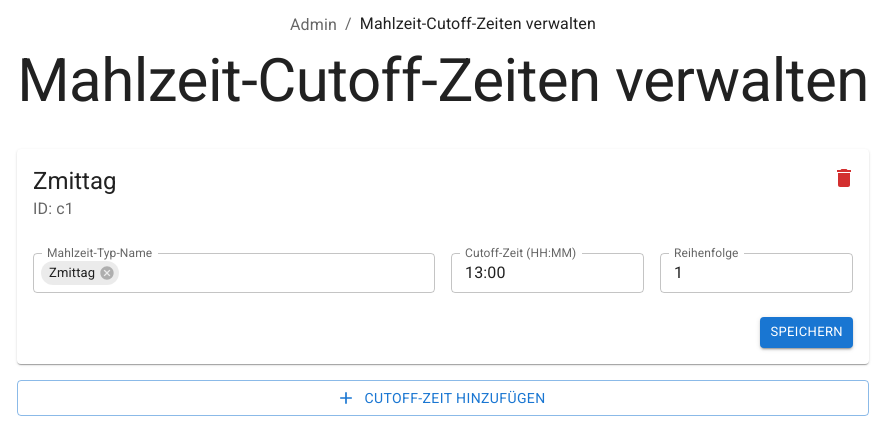
Scenario: MealTypeCutoffTimesPage › uebernimmt getippten Text als Chip bei Leertaste
Check: the field showing "13:00" is shown, box left=451, top=253, right=644, bottom=293
Type "Mittagessen " into the dropdown labelled "Mahlzeit-Typ-Name" at (259, 273), box left=121, top=259, right=396, bottom=287
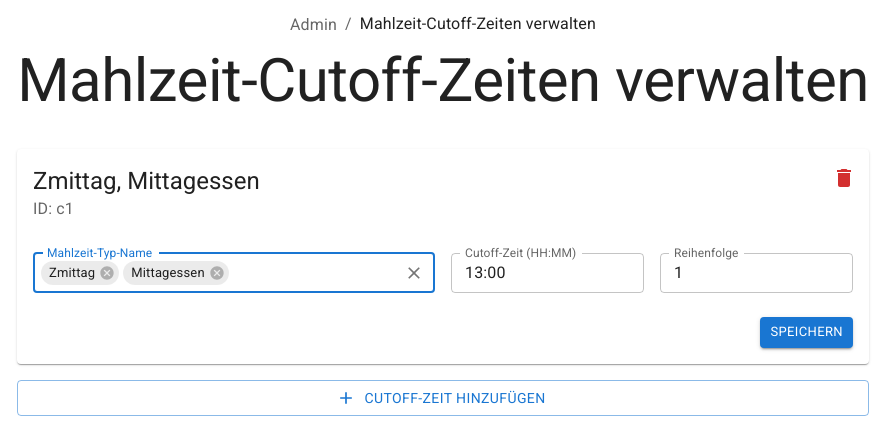
Check: the text "Mittagessen" is shown, box left=131, top=265, right=205, bottom=280
